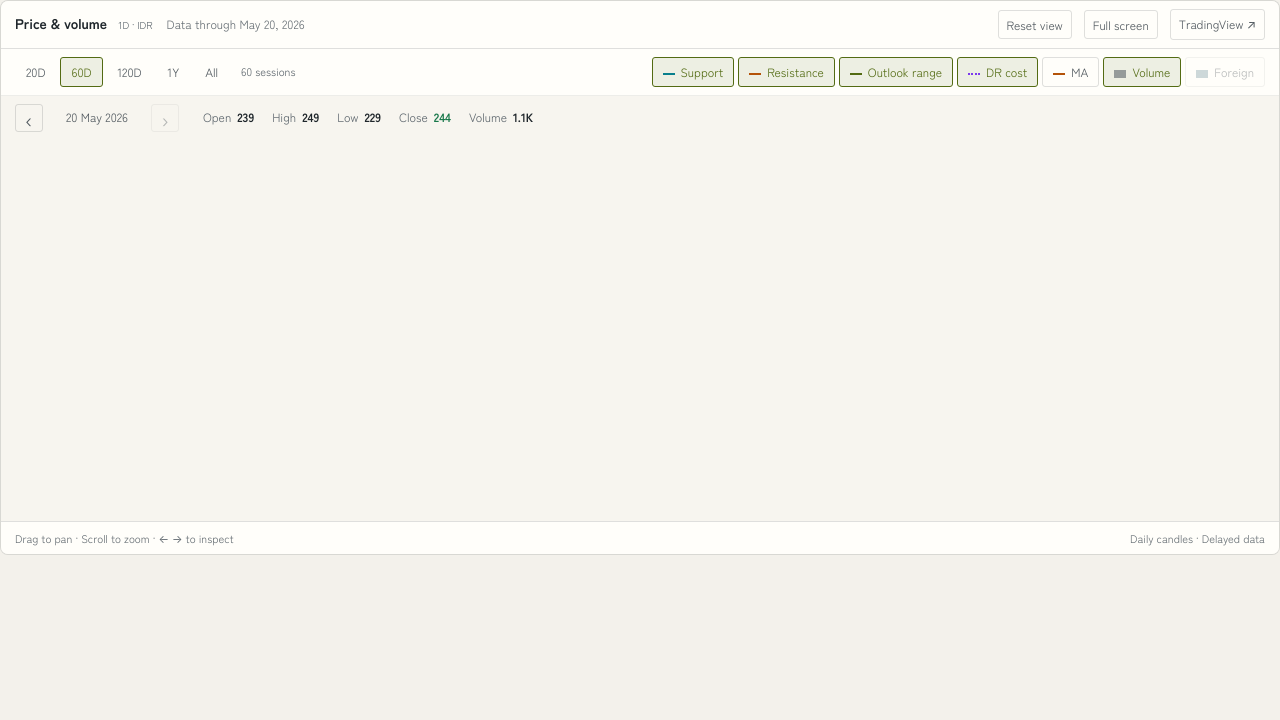
Test: chart interaction continuity › handles unavailable fullscreen
Click the button "Full screen" at (1121, 24), box [1084,10,1158,39]
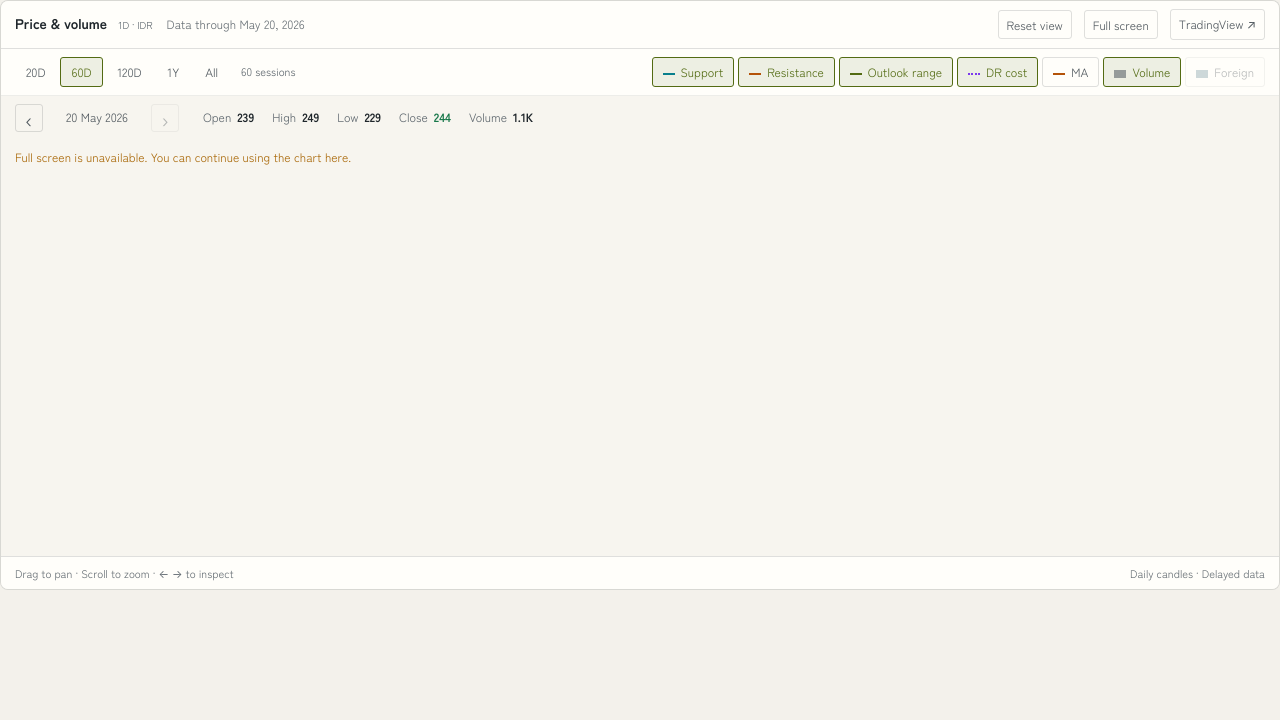
Expected: the message shows "Full screen is unavailable", [15,148,351,165]
